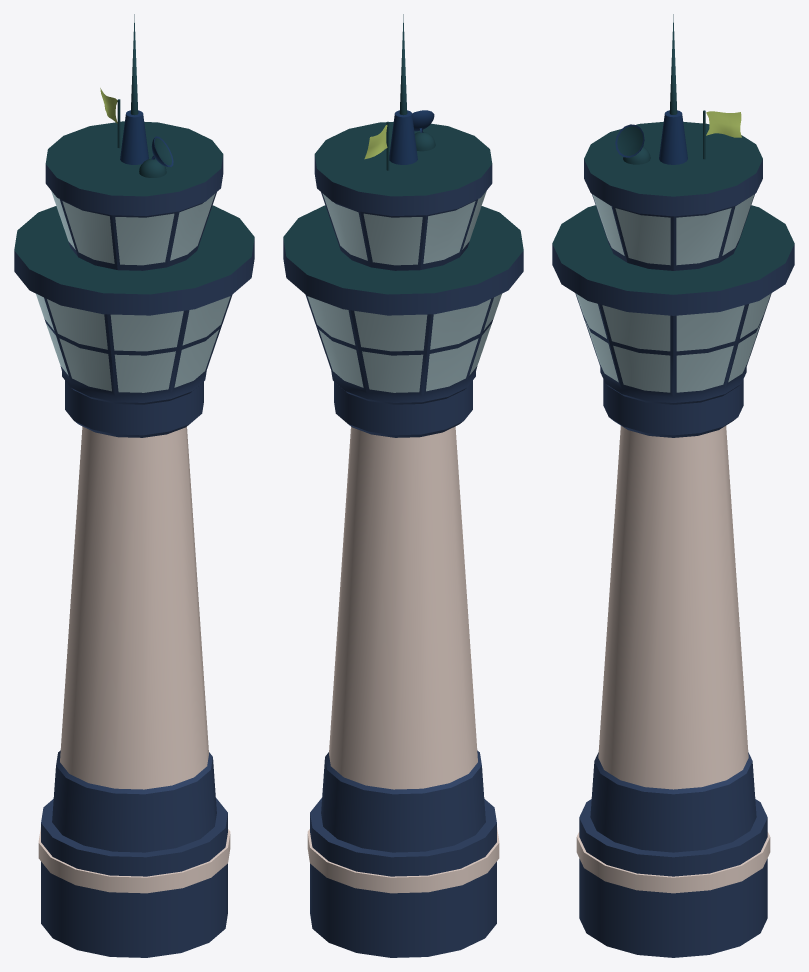
The model's file is tower.fbx.
3 views of the same model, side by side, from view 1: azimuth 30°, elevation 25°; view 2: azimuth 150°, elevation 25°; view 3: azimuth 270°, elevation 25° (orthographic).
Visible parts, largest first — view 1: 02.ControlTower; view 2: 02.ControlTower; view 3: 02.ControlTower.
Part boxes in pixels (bbox=[...]): 02.ControlTower: bbox=[14, 14, 254, 957]; 02.ControlTower: bbox=[283, 14, 523, 957]; 02.ControlTower: bbox=[552, 14, 794, 957].
Size of the model in its own units: 2445 by 10059 by 2445.
